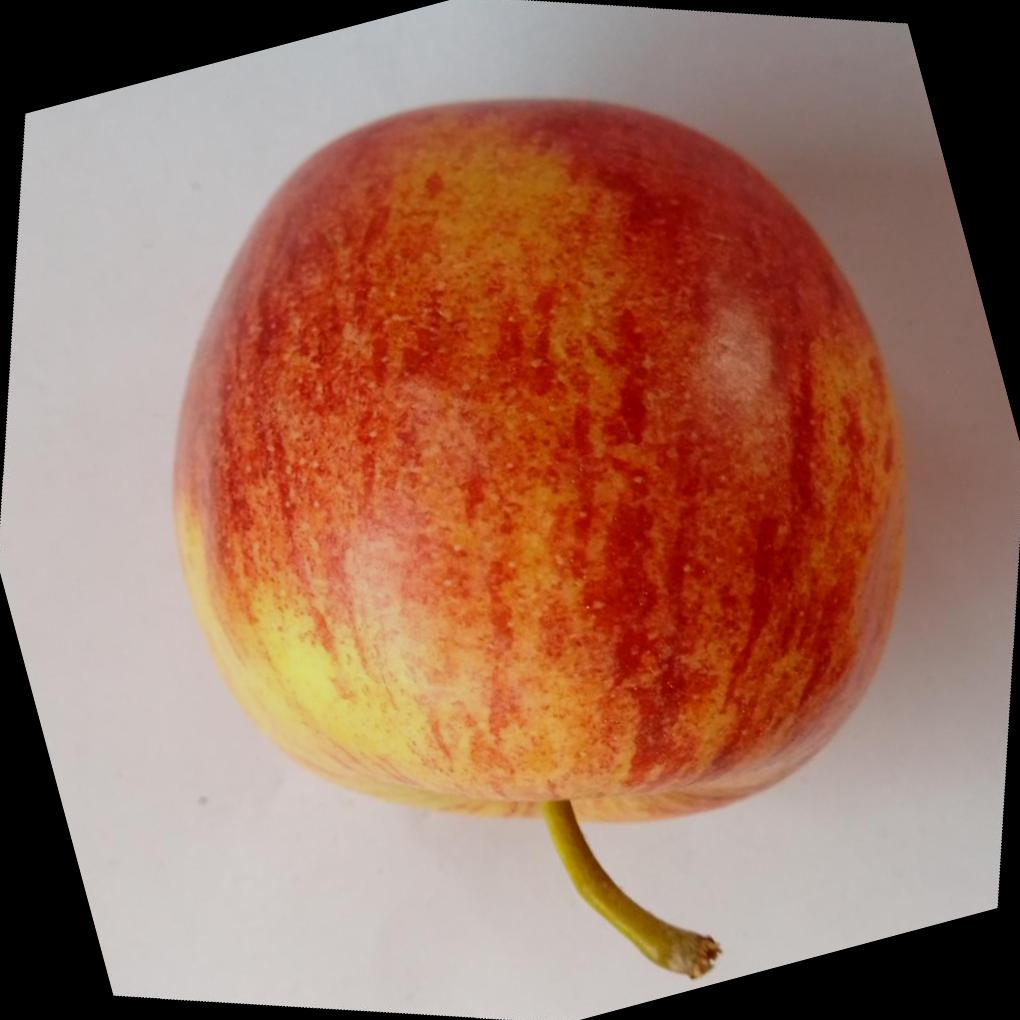FreshGuava: (168, 92, 909, 824)
